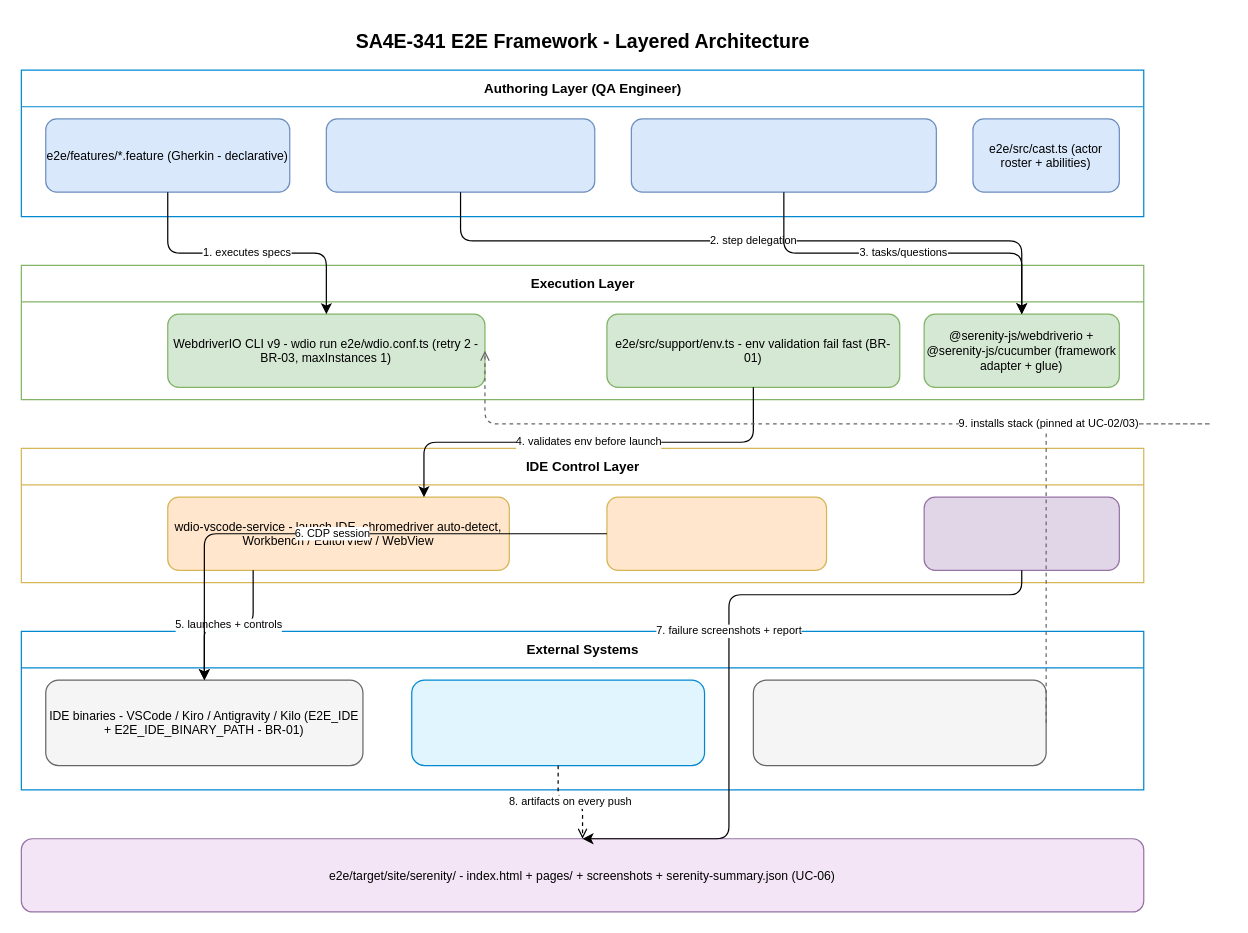
This 1248x933 diagram has some shape labels left out. Each missing label, with the centre of its shape:
"CI Runner - Linux xvfb (primary - UC-07), Windows (validated or deferred)" goes at point (558, 722).
"e2e/features/step_definitions/*.ts (delegation only - BR-04)" goes at point (460, 155).
"e2e/src/screenplay/{tasks,questions,interactions} (Screenplay constructs)" goes at point (783, 155).
"npm Registry - WDIO v9, wdio-vscode-service, Serenity/JS 3, Cucumber" goes at point (899, 722).
"Serenity BDD Reporter + Photographer (BR-08) + console reporter" goes at point (1021, 533).
"WebDriver / CDP (JSON over HTTP/WS)" goes at point (716, 533).
